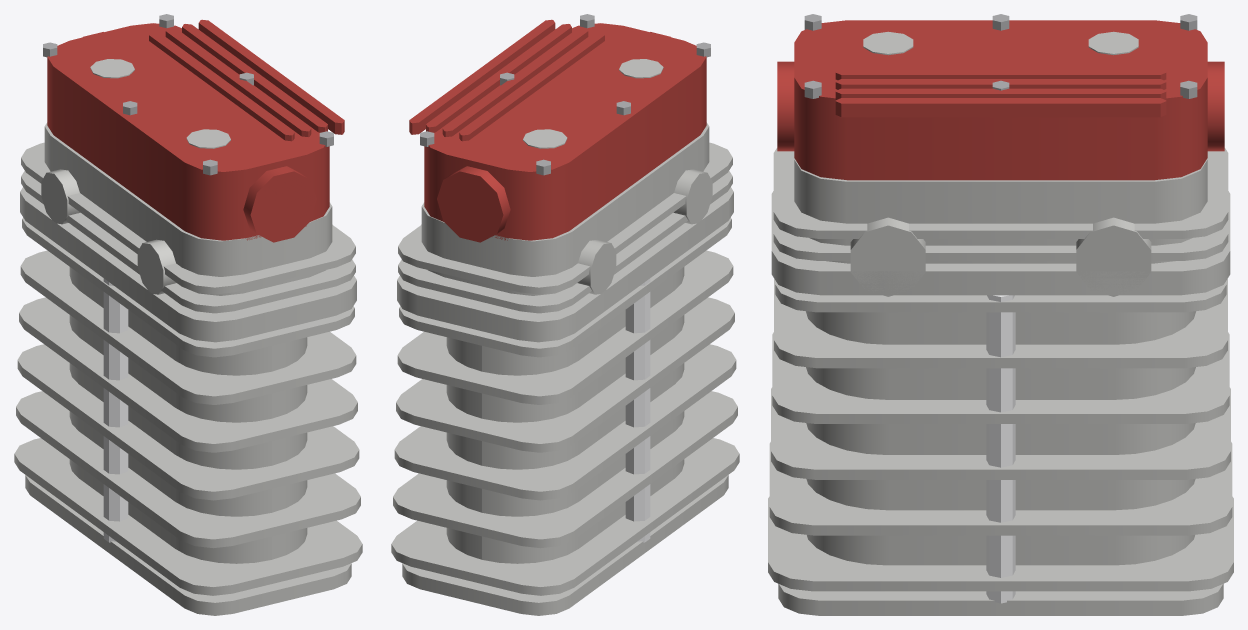
Rendered from hot_cam_lod1.glb.
3 views of the same model, side by side, from view 1: azimuth 30°, elevation 25°; view 2: azimuth 150°, elevation 25°; view 3: azimuth 270°, elevation 25° (orthographic). The views are drawn at different scales.
Parts seen in each view (by area): view 1: hot_cam_lod1; view 2: hot_cam_lod1; view 3: hot_cam_lod1.
Boxes of the visible parts, box(x1,y1,x2,y2) form: hot_cam_lod1: box(14, 14, 362, 615); hot_cam_lod1: box(391, 14, 739, 615); hot_cam_lod1: box(768, 14, 1233, 615).
Bounding box in the file's own units: 0.128 × 0.3043 × 0.248.
